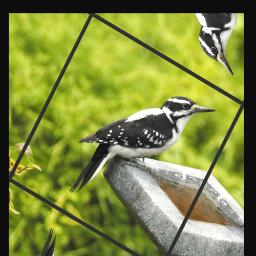Woodpecker: (57, 50, 219, 242)
